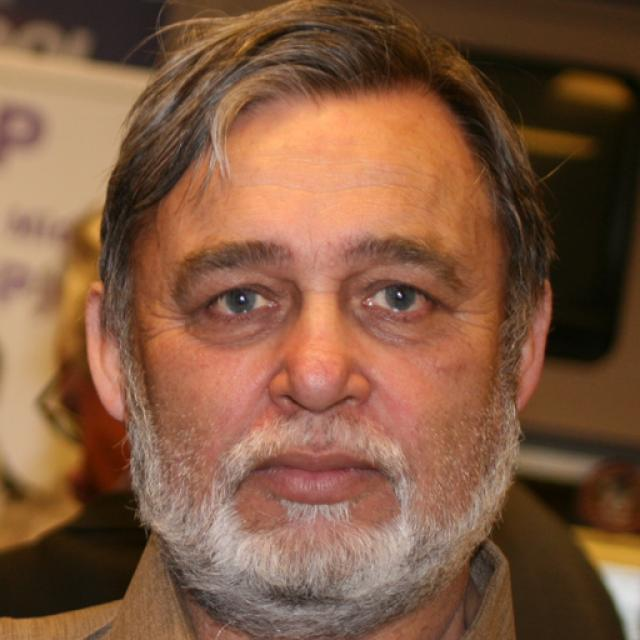Dark Circle: (193, 308, 288, 346), (354, 307, 444, 344)
